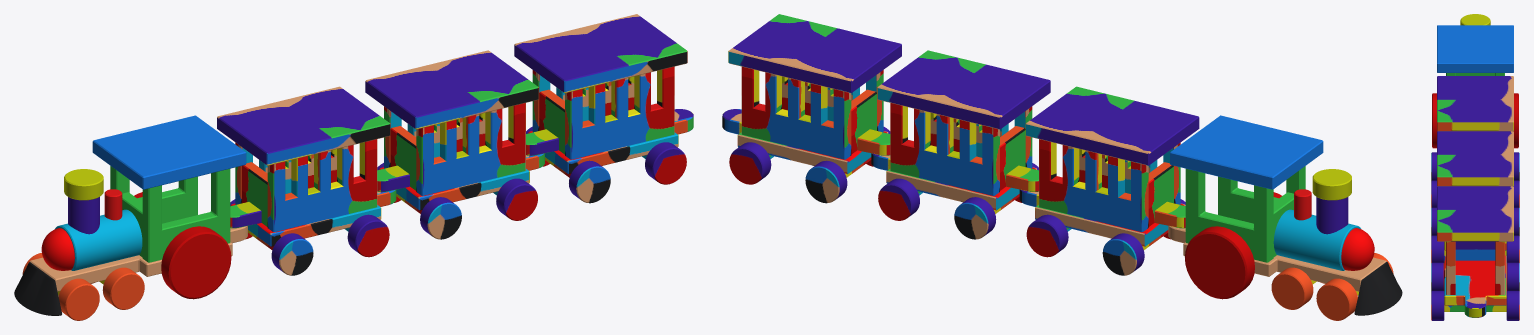
File: Train Toys.fbx
3 views of the same model, side by side, from view 1: azimuth 30°, elevation 25°; view 2: azimuth 150°, elevation 25°; view 3: azimuth 270°, elevation 25° (orthographic). The views are drawn at different scales.
Visible parts, largest first — view 1: Train Toys; view 2: Train Toys; view 3: Train Toys.
Part boxes in pixels (box(x1,y1,x2,y2)): Train Toys: box(14, 14, 693, 320); Train Toys: box(722, 14, 1402, 320); Train Toys: box(1431, 14, 1519, 320).
Bounding box in the file's own units: 1.21 × 0.2276 × 0.1812.
1 material, 1 textured.
